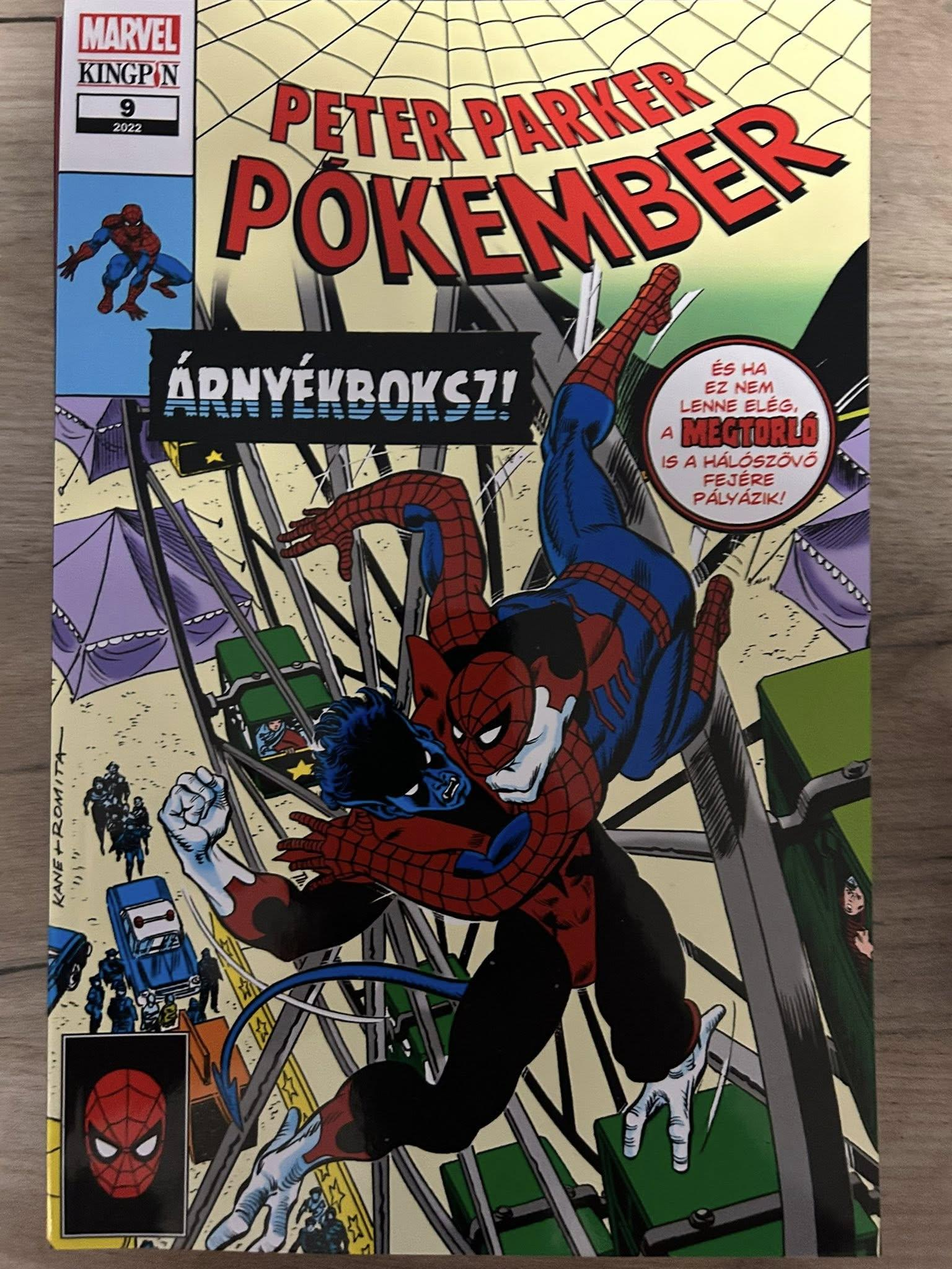comic: (48, 0, 878, 1255)
